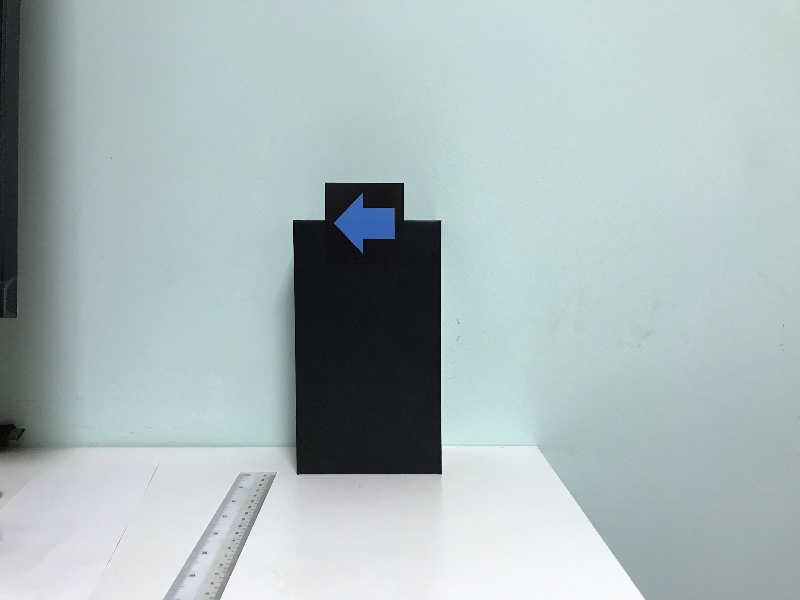LA-4: (327, 184, 402, 263)
